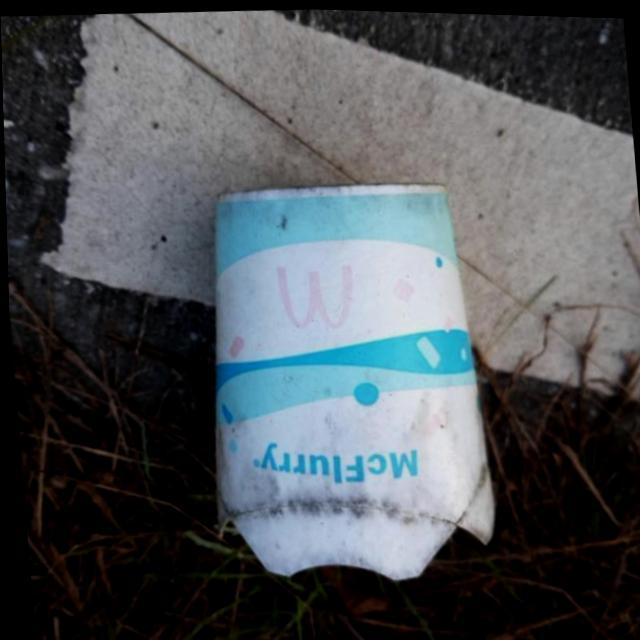Paper: (15, 0, 640, 429), (182, 168, 503, 594)
